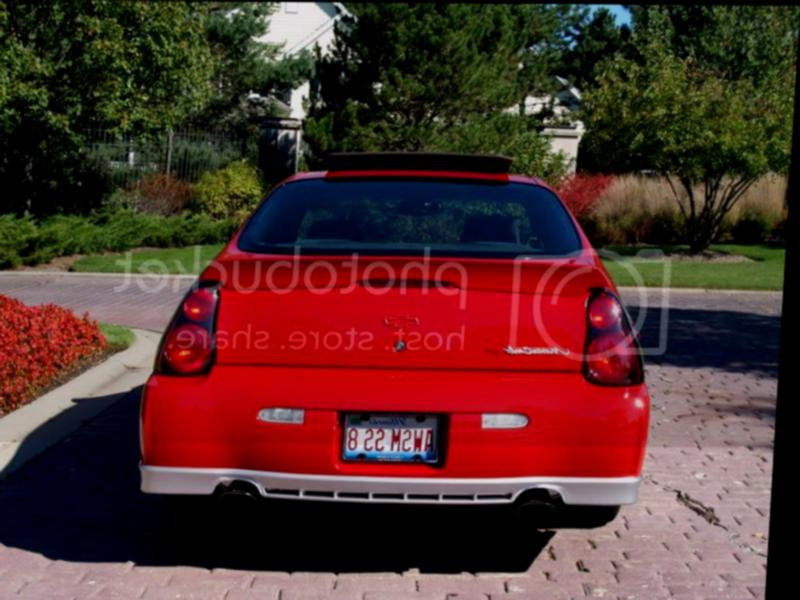License_Plate: (331, 408, 446, 466)
